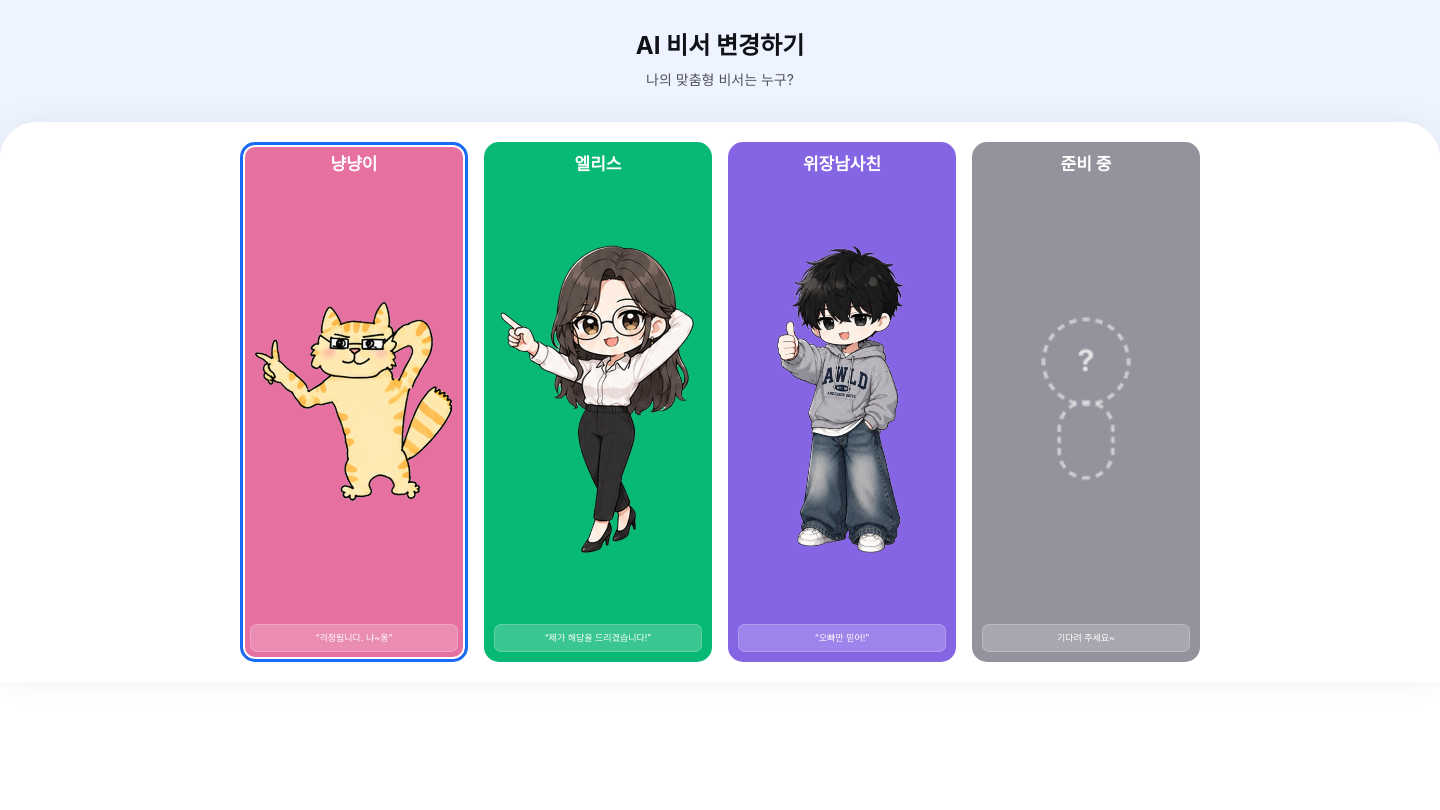
Test: SecretaryChangeView › 비서 선택지를 표시하고 선택을 저장한다
Step 1. Click the button with class "secretary-card" showing "위장남사친 “오빠만 믿어!”" → x=842, y=402, box [728,142,956,662]
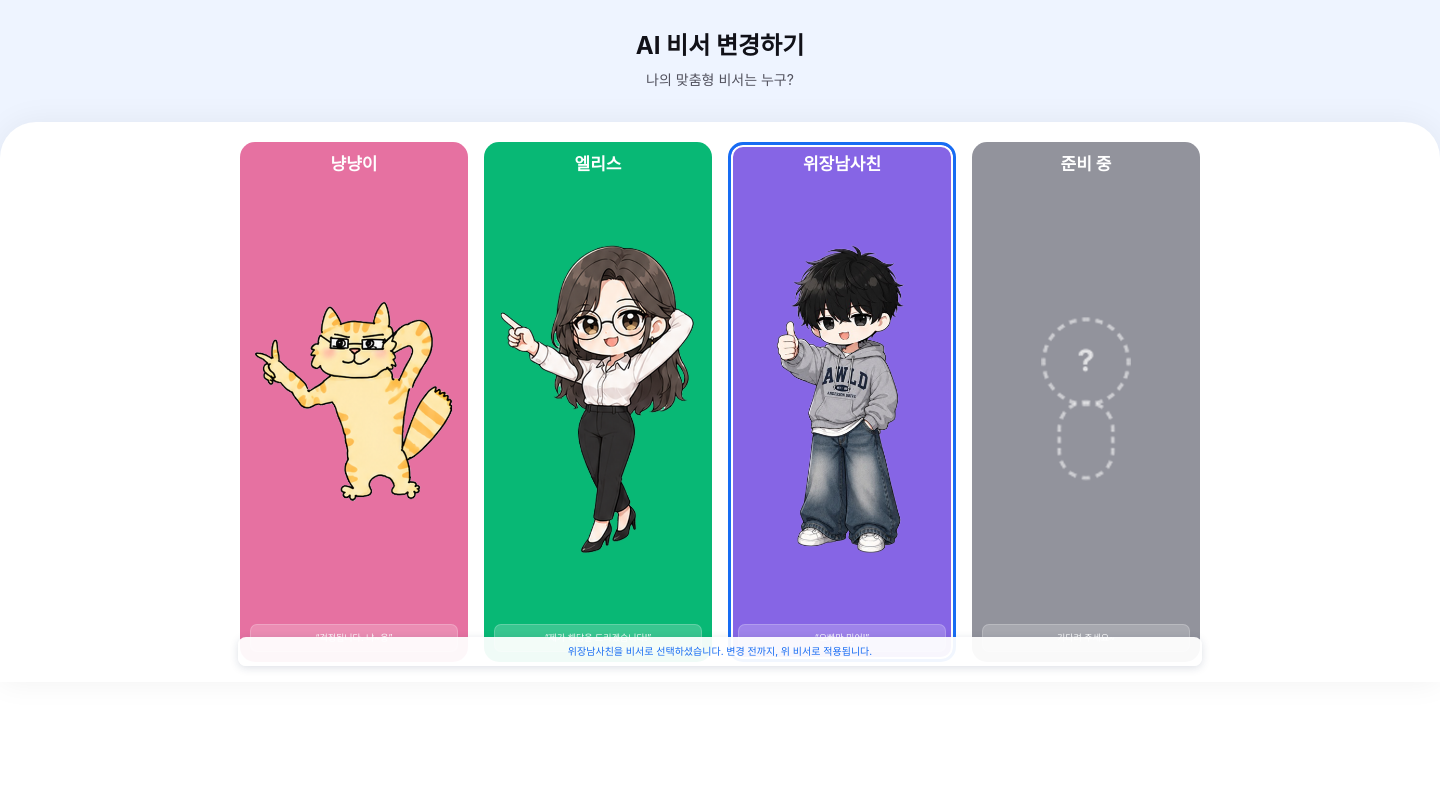
expect the message shows "위장남사친": met, box [568,644,872,656]
